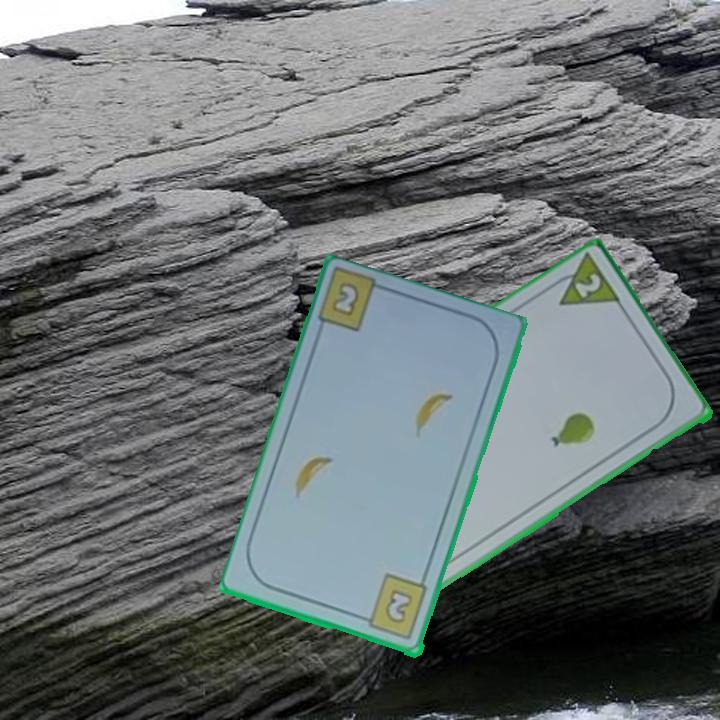2b: (356, 571, 431, 643), (328, 279, 363, 320)
2p: (543, 252, 625, 310)
